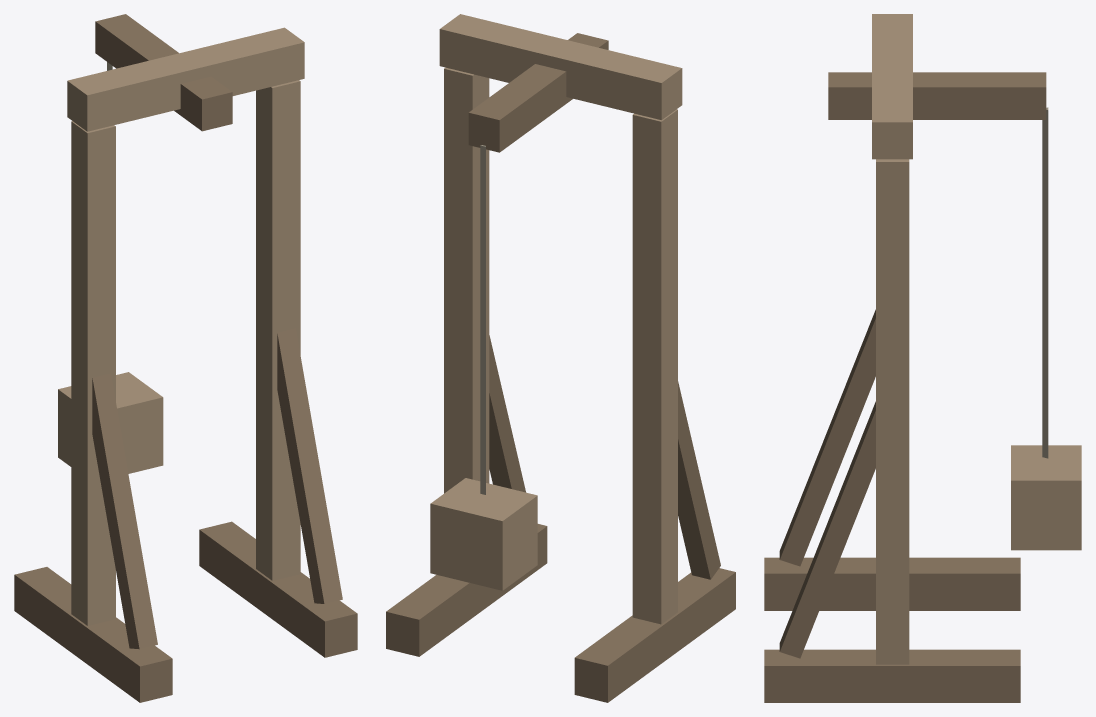
Rendered from crane_small_far.glb.
3 renders of one model, left to right at view 1: azimuth 30°, elevation 25°; view 2: azimuth 150°, elevation 25°; view 3: azimuth 270°, elevation 25°, orthographic. The views are drawn at different scales.
Bounding box in the file's own units: 2 × 5 × 2.48.
